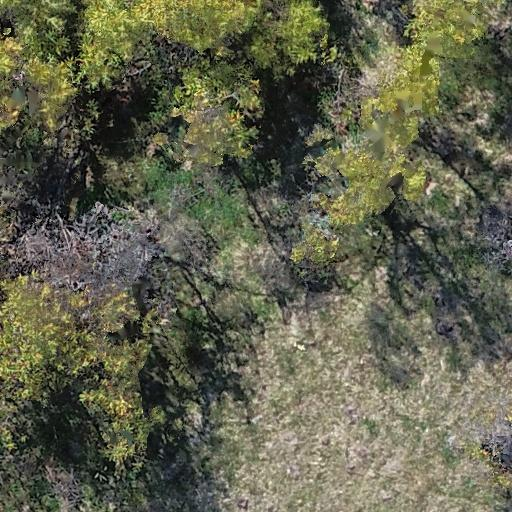stone: (343, 414, 356, 426), (346, 464, 358, 476), (238, 498, 252, 508), (320, 436, 331, 446), (380, 492, 392, 500), (346, 463, 357, 470), (258, 453, 268, 460)
